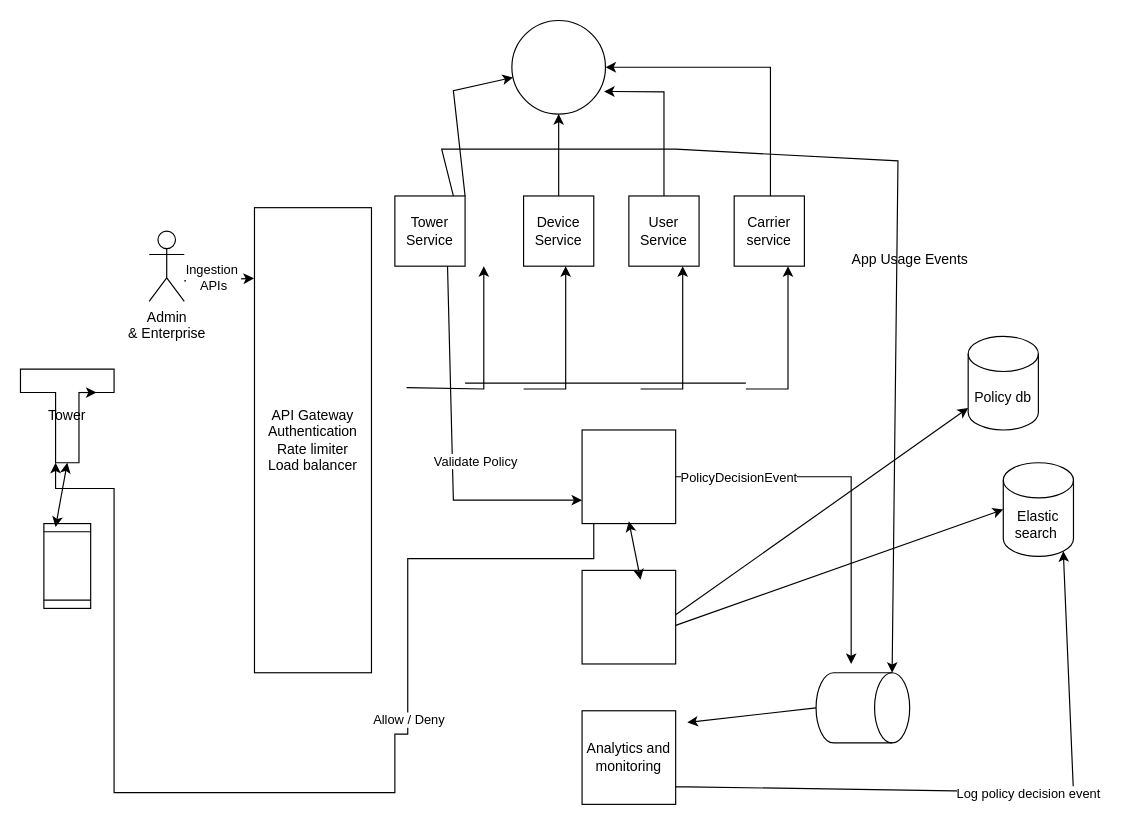
This 1124x825 diagram has some shape labels left out. Here are the shapes that lost their labels. From the top down, the centre of each, then its label:
At pixel 558 66: "SQL".
At pixel 628 476: "Policy Service".
At pixel 67 565: "Device".
At pixel 628 616: "Policy Engine".
At pixel 862 707: "KAFKA".
